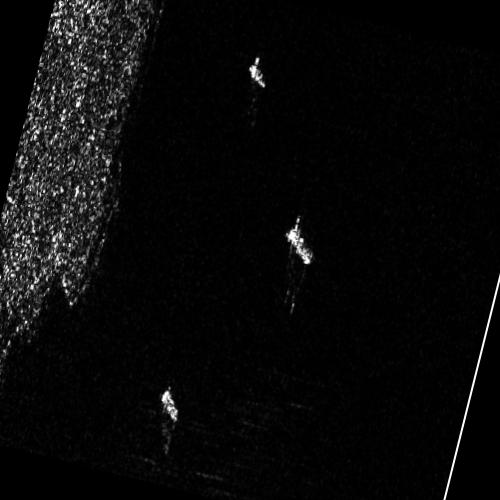ship: (285, 215, 315, 265), (161, 384, 179, 422), (249, 55, 266, 87)
